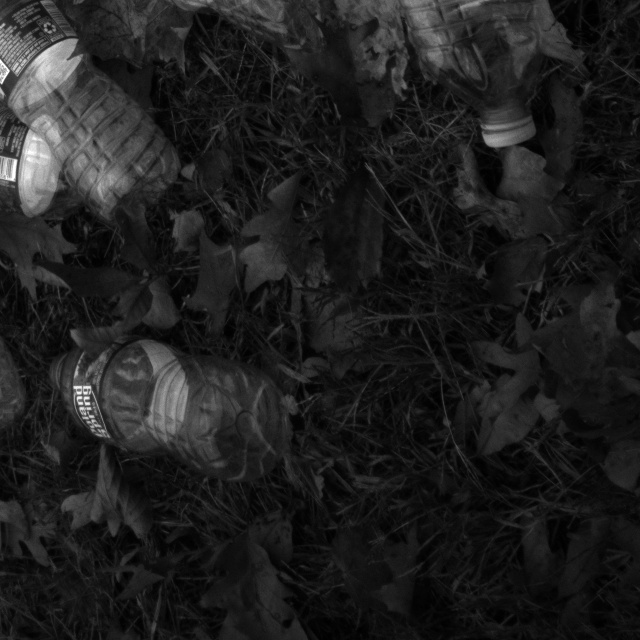bottle: (0, 0, 186, 223), (48, 336, 293, 475), (331, 0, 550, 153), (0, 88, 132, 225)
